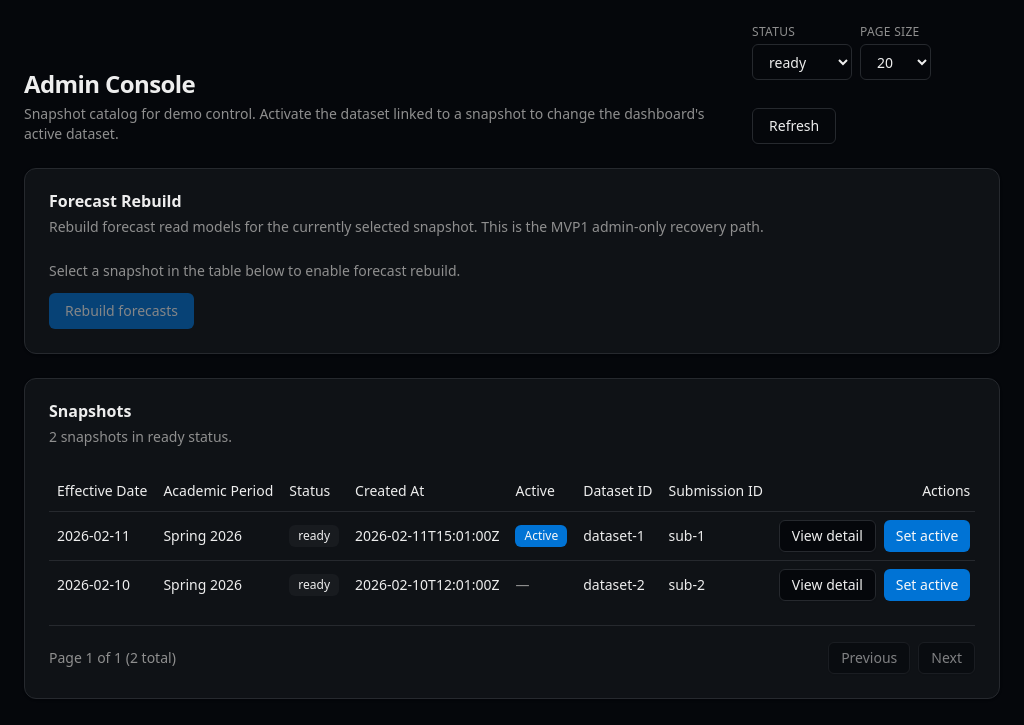
Scenario: Admin Console route › surfaces activation errors from the backend
The image size is (1024, 725).
What coordinates should you click on to do the following:
click the button with aria-label "Set active snapshot snap-ready-inactive"
I would click on:
 (927, 584)
Its box is x1=884 y1=568 x2=970 y2=600.
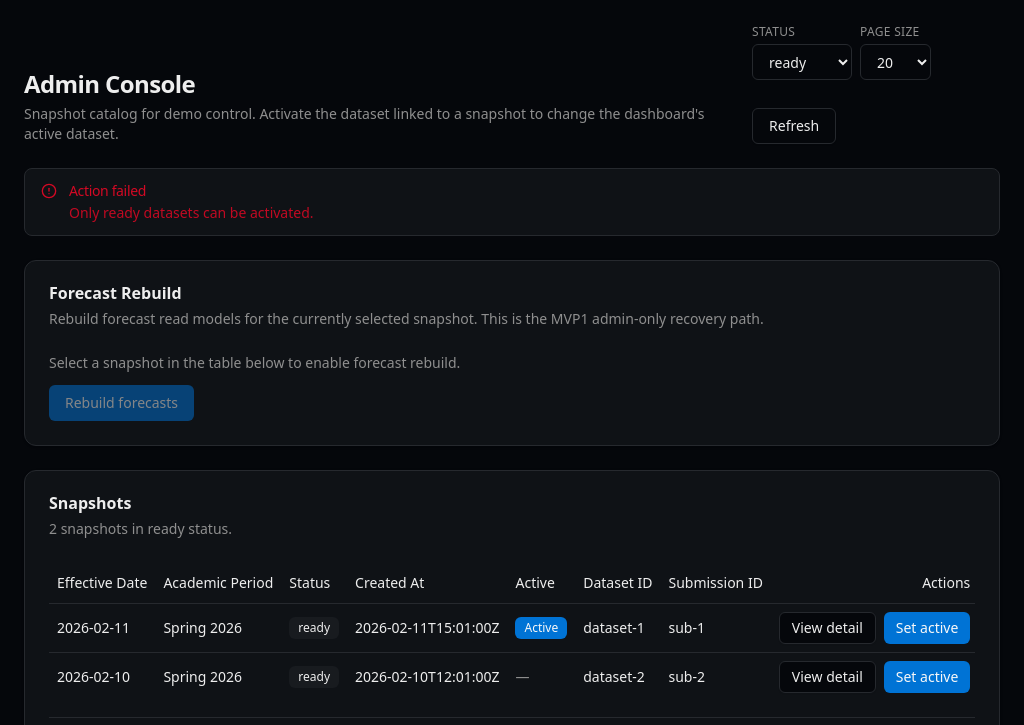
Expected: the message "Action failed Only ready datasets can be activated." is shown, x1=24 y1=168 x2=1000 y2=236
Expected: the text "Action failed" is shown, x1=69 y1=181 x2=146 y2=200
Expected: the text "Only ready datasets can be activated." is shown, x1=69 y1=203 x2=314 y2=222
